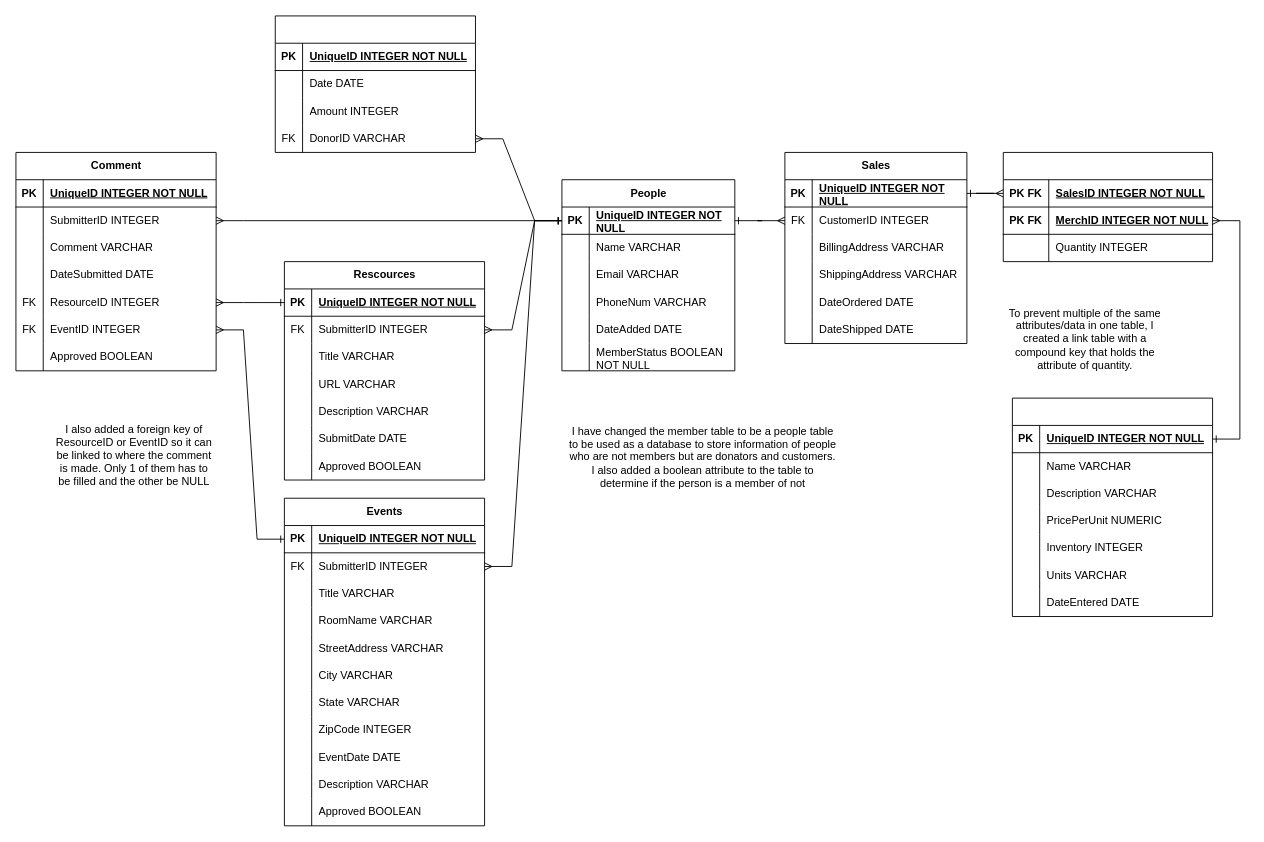
Image size: 1264x842. Some labels were removed from this diagram. The shapes that lost their labels are listed below. From the top down, each one's box as (x1, y1, x2, y2) in pixels, then its label:
(274, 15, 475, 152): Donations
(1002, 152, 1213, 262): SoldItem
(1011, 397, 1213, 617): Merch
